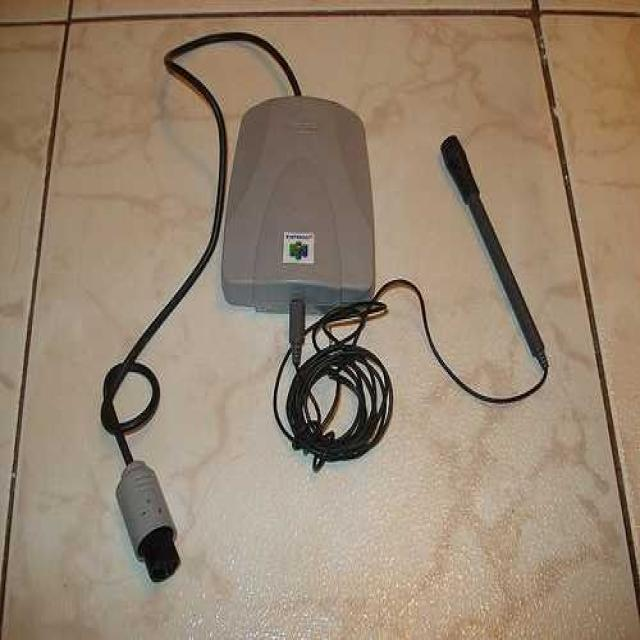microphone: (436, 130, 504, 224)
